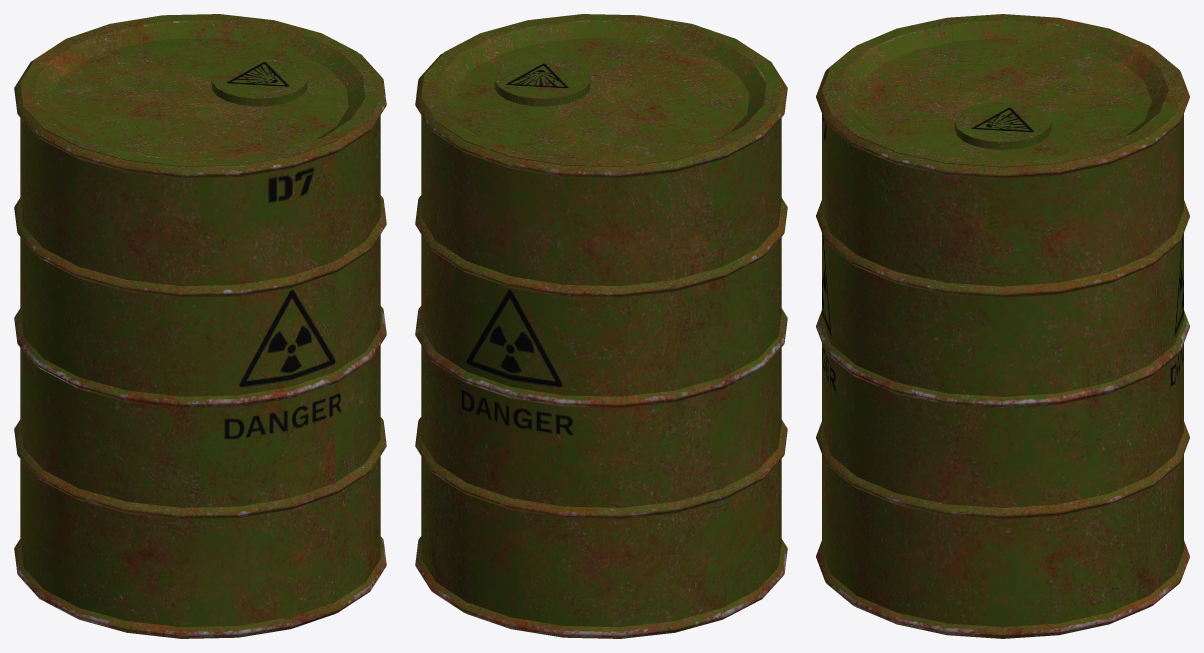
File: radioactive_metal_barrel.glb
3 renders of one model, left to right at view 1: azimuth 30°, elevation 25°; view 2: azimuth 150°, elevation 25°; view 3: azimuth 270°, elevation 25°, orthographic.
Parts seen in each view (by area): view 1: g; view 2: g; view 3: g.
Boxes of the visible parts, left/top/right/bottom form: g: left=14, top=14, right=386, bottom=638; g: left=415, top=14, right=787, bottom=638; g: left=816, top=14, right=1189, bottom=638.
Bounding box in the file's own units: 1.44 × 2 × 1.44.
1 material, 1 textured.
